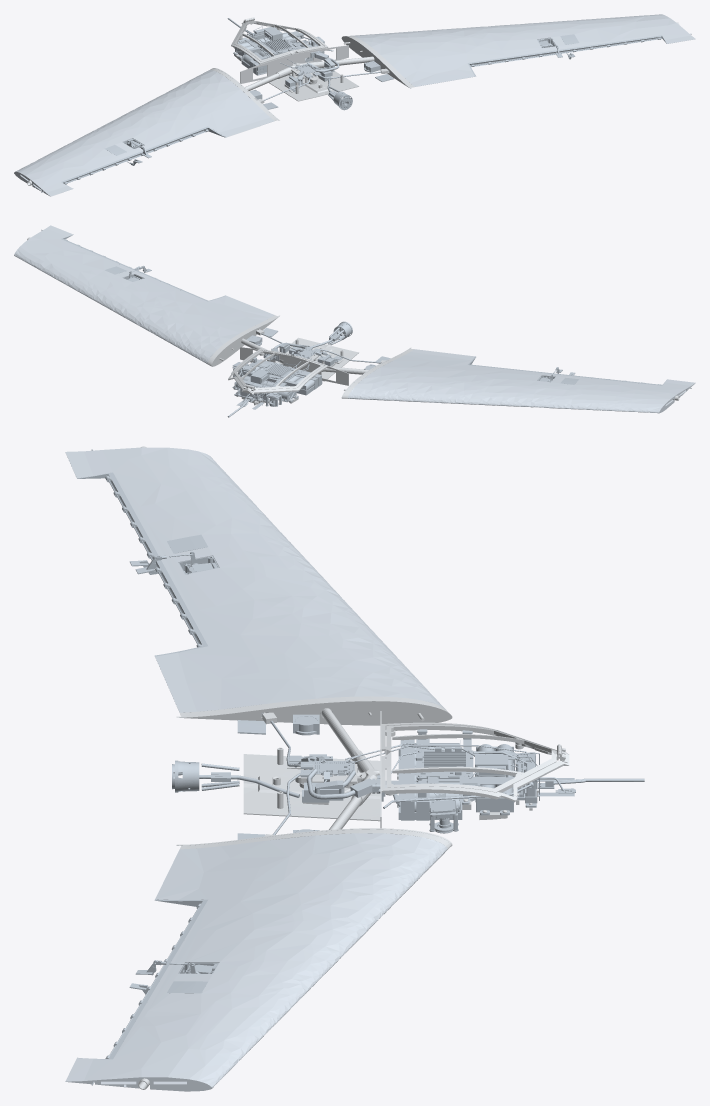
The model's file is next_inside.glb.
3 renders of one model, top to bottom at view 1: azimuth 30°, elevation 25°; view 2: azimuth 150°, elevation 25°; view 3: azimuth 270°, elevation 25°, orthographic. The views are drawn at different scales.
Visible parts, largest first — view 1: x_foam__foam_core_L, x_foam__foam_core_R, x_structure__keel_rear, x_structure__bay_bulkhead, x_structure__root_rib_R, x_structure__hatch_frame, x_structure__coaming, x_structure__root_rib_L, x_controls__hinge_strip_3_R, x_controls__hinge_strip_2_R, x_controls__hinge_strip_3_L, x_controls__hinge_strip_1_R; view 2: x_foam__foam_core_L, x_foam__foam_core_R, x_structure__hatch_frame, x_structure__root_rib_R, x_structure__bay_bulkhead, x_structure__keel_rear, x_structure__coaming, x_structure__root_rib_L; view 3: x_foam__foam_core_R, x_foam__foam_core_L, x_structure__root_rib_L, x_structure__keel_rear, x_structure__hatch_frame, x_structure__coaming, x_structure__root_rib_R, x_power__main_pack_straps.
Part boxes in pixels (box(x1,y1,x2,y2)): x_foam__foam_core_L: box(14, 70, 274, 196); x_foam__foam_core_R: box(351, 14, 695, 86); x_structure__keel_rear: box(269, 67, 358, 101); x_structure__bay_bulkhead: box(240, 45, 348, 83); x_structure__root_rib_R: box(341, 35, 414, 88); x_structure__hatch_frame: box(234, 17, 324, 61); x_structure__coaming: box(231, 17, 328, 64); x_structure__root_rib_L: box(210, 68, 279, 120); x_controls__hinge_strip_3_R: box(467, 54, 531, 76); x_controls__hinge_strip_2_R: box(531, 44, 599, 58); x_controls__hinge_strip_3_L: box(160, 126, 226, 148); x_controls__hinge_strip_1_R: box(599, 35, 666, 47); x_foam__foam_core_L: box(347, 349, 695, 413); x_foam__foam_core_R: box(14, 225, 274, 364); x_structure__hatch_frame: box(234, 350, 324, 390); x_structure__root_rib_R: box(207, 315, 279, 366); x_structure__bay_bulkhead: box(240, 347, 348, 385); x_structure__keel_rear: box(275, 337, 358, 381); x_structure__coaming: box(228, 349, 328, 394); x_structure__root_rib_L: box(341, 347, 414, 398); x_foam__foam_core_R: box(65, 833, 447, 1091); x_foam__foam_core_L: box(65, 447, 445, 716); x_structure__root_rib_L: box(176, 696, 452, 725); x_structure__keel_rear: box(243, 747, 380, 821); x_structure__hatch_frame: box(384, 724, 561, 792); x_structure__coaming: box(381, 722, 569, 801); x_structure__root_rib_R: box(176, 828, 452, 849); x_power__main_pack_straps: box(401, 738, 429, 820).
Bounding box in the file's own units: 1.8 × 0.063 × 0.6933.
